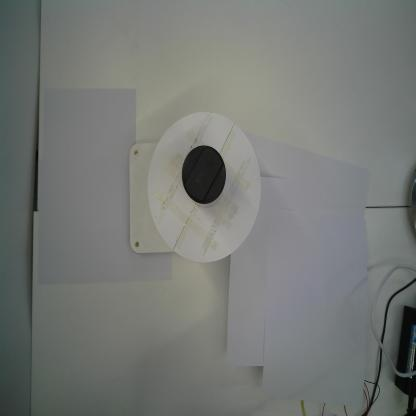Canned Food: (180, 142, 228, 207)
